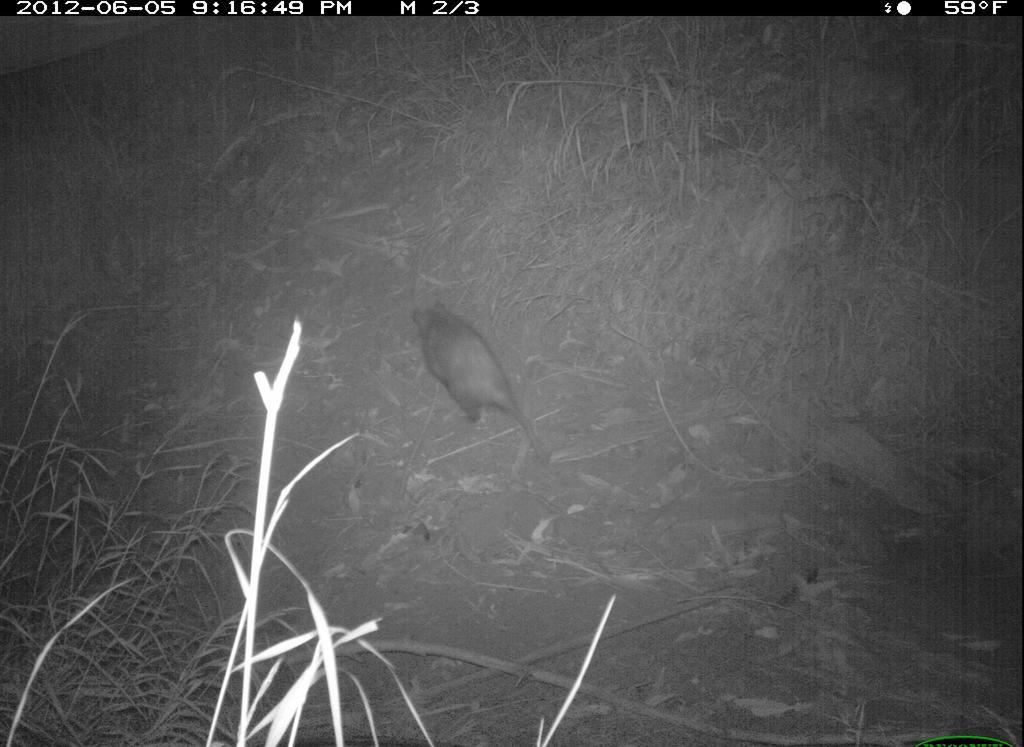opossum: (392, 286, 559, 461)
